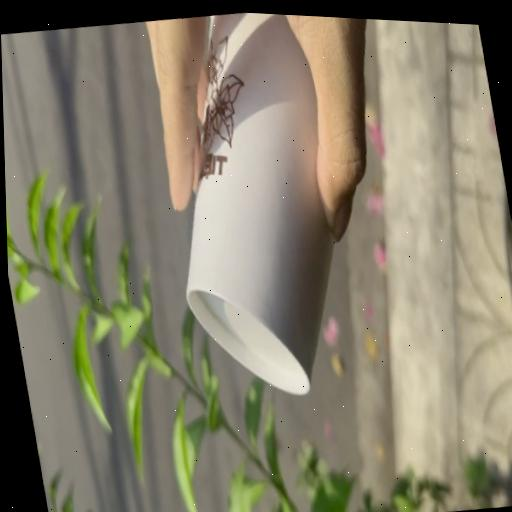Ly_giay: (186, 12, 333, 394)
